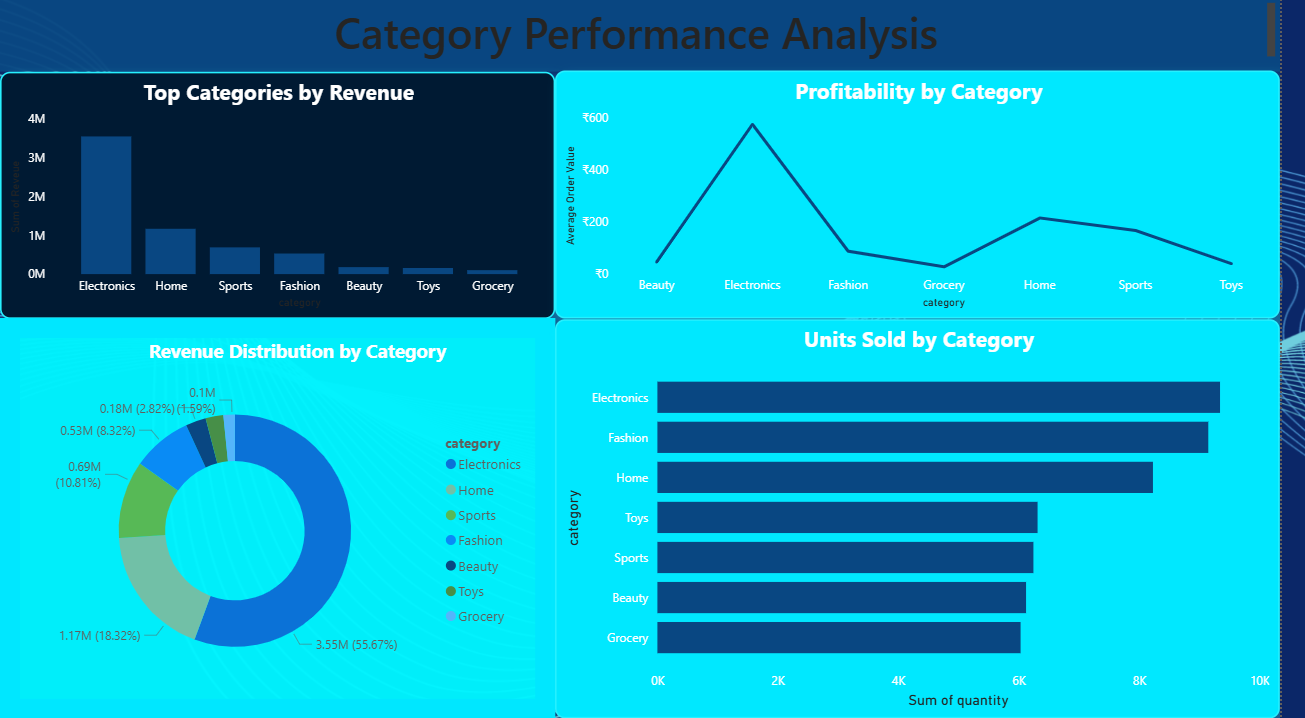

Layout of this report page (visuals, bound fields, positions):
{"tool":"powerbi","page":{"name":"Category Performance Analysis","canvas":[1280,720],"ordinal":2},"visuals":[{"type":"textbox","box":[0,0,1280,73.4],"z":0},{"type":"clusteredColumnChart","title":"Top Categories by Revenue","fields":{"Category":["ecommerce_sales_34500.category"],"Y":["Sum(ecommerce_sales_34500.Reveue)"]},"box":[0,73.4,554.8,247.5],"z":1000},{"type":"donutChart","title":"Revenue Distribution by Category","fields":{"Category":["ecommerce_sales_34500.category"],"Y":["Sum(ecommerce_sales_34500.Reveue)"]},"box":[0,320,555.2,401],"z":2000},{"type":"lineChart","title":"Profitability by Category","fields":{"Category":["ecommerce_sales_34500.category"],"Y":["ecommerce_sales_34500.Average Order Value"]},"box":[555,73,725,248],"z":3000},{"type":"clusteredBarChart","title":"Units Sold by Category","fields":{"Category":["ecommerce_sales_34500.category"],"Y":["Sum(ecommerce_sales_34500.quantity)"]},"box":[555,321,725,399],"z":4000}]}

Visuals, with their boxes in screenshot pixels (x1, y1, x2, y2), scaled from the page's 1280x720 canvas onto the 1305x718 screenshot:
textbox: (0,0,1304,73)
"Top Categories by Revenue" clusteredColumnChart: (0,73,566,320)
"Revenue Distribution by Category" donutChart: (0,319,566,717)
"Profitability by Category" lineChart: (566,73,1304,320)
"Units Sold by Category" clusteredBarChart: (566,320,1304,717)
